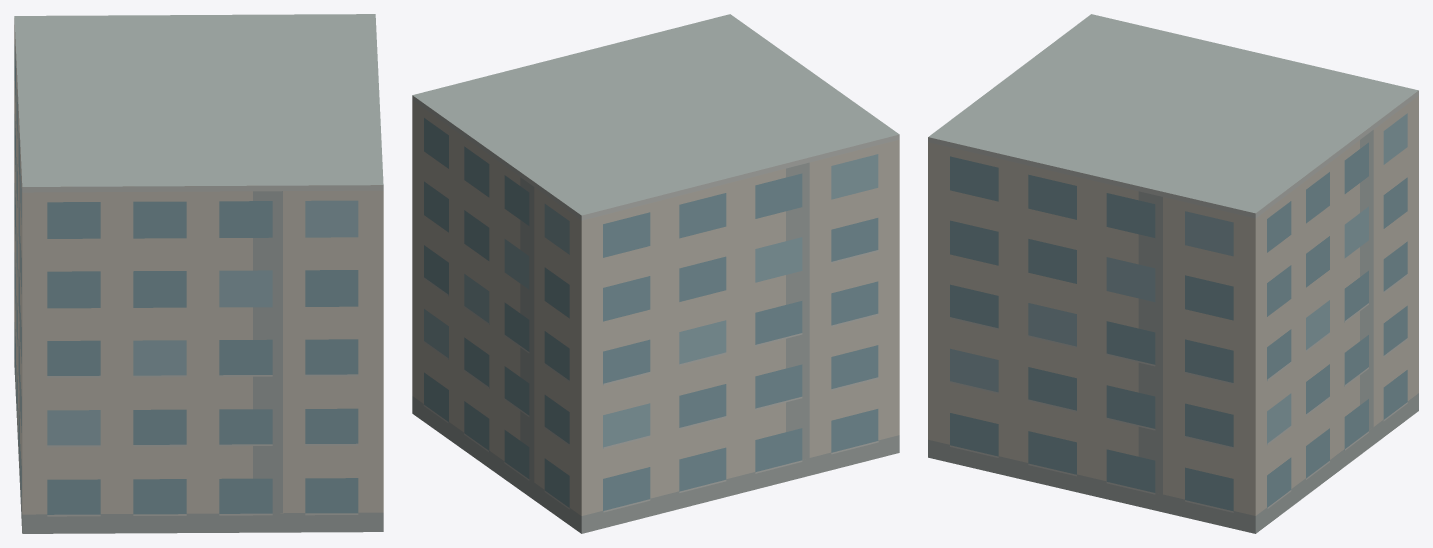
File: survey-upis-32877639.glb
The picture shows the model from 3 angles, left to right: view 1: azimuth 30°, elevation 25°; view 2: azimuth 150°, elevation 25°; view 3: azimuth 270°, elevation 25°; orthographic projection. The views are drawn at different scales.
Parts seen in each view (by area): view 1: survey-upis-32877639.tmp; view 2: survey-upis-32877639.tmp; view 3: survey-upis-32877639.tmp.
Boxes of the visible parts, bbox=[...] form: survey-upis-32877639.tmp: bbox=[14, 14, 383, 533]; survey-upis-32877639.tmp: bbox=[412, 14, 899, 533]; survey-upis-32877639.tmp: bbox=[928, 14, 1418, 533].
Size of the model in its own units: 20.35 by 15.25 by 21.17.
